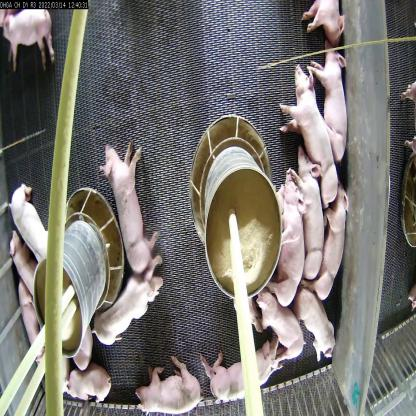Pig: (96, 134, 151, 284), (280, 73, 338, 204), (204, 333, 293, 410), (309, 194, 354, 310), (133, 350, 210, 415), (0, 0, 62, 75), (316, 27, 351, 153), (5, 180, 52, 260), (56, 356, 114, 416), (290, 273, 332, 354), (288, 152, 316, 268), (258, 275, 299, 353), (270, 172, 295, 298), (2, 229, 39, 301), (16, 281, 42, 355), (64, 328, 86, 366)
